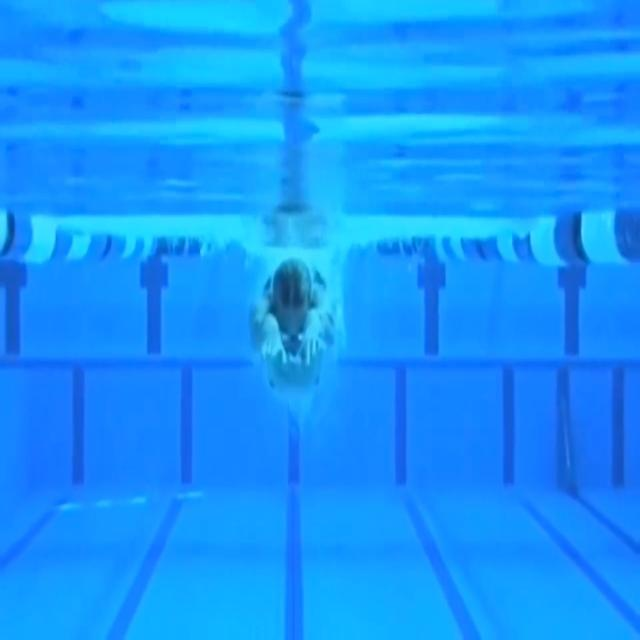Swimming: (252, 256, 339, 398)
